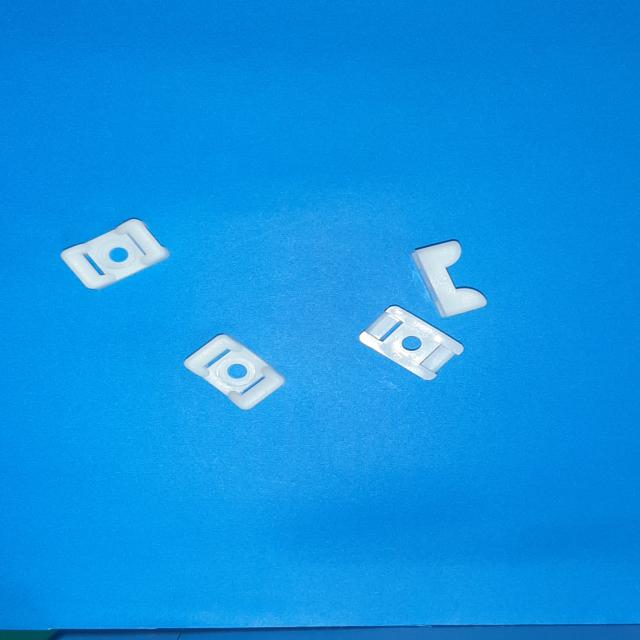false_1: (358, 305, 463, 380)
false_2: (412, 240, 487, 318)
true: (183, 334, 285, 410), (62, 219, 170, 289)
true_center: (227, 364, 247, 379), (109, 248, 129, 262)
